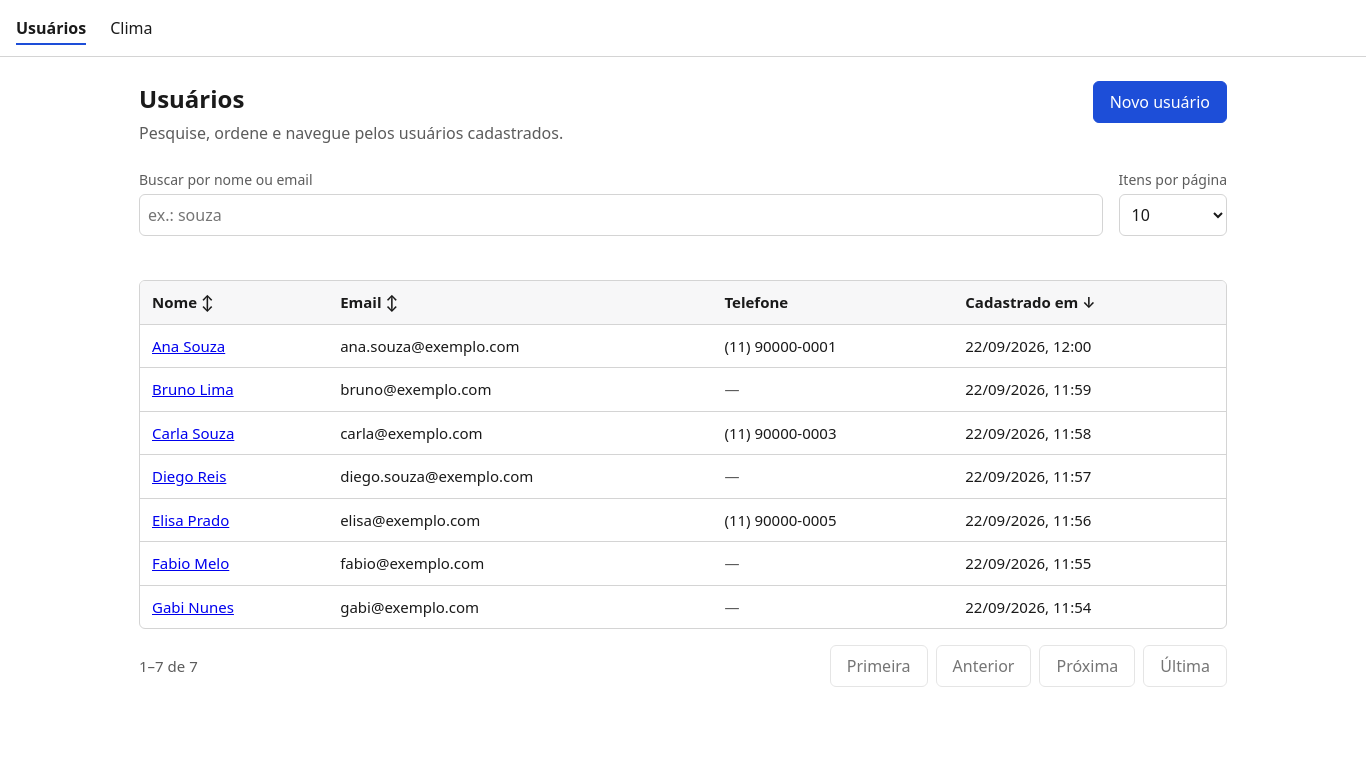
Scenario: percurso: buscar, paginar e abrir um usuário › pagina dentro do resultado filtrado, sem misturar com o restante
The width and height of the screenshot is (1366, 768).
expect the table is shown: met, box [140,281,1226,628]
Type "souza" into the search field labelled "Buscar por nome ou email". click: (621, 215)
box: [139,194,1103,236]
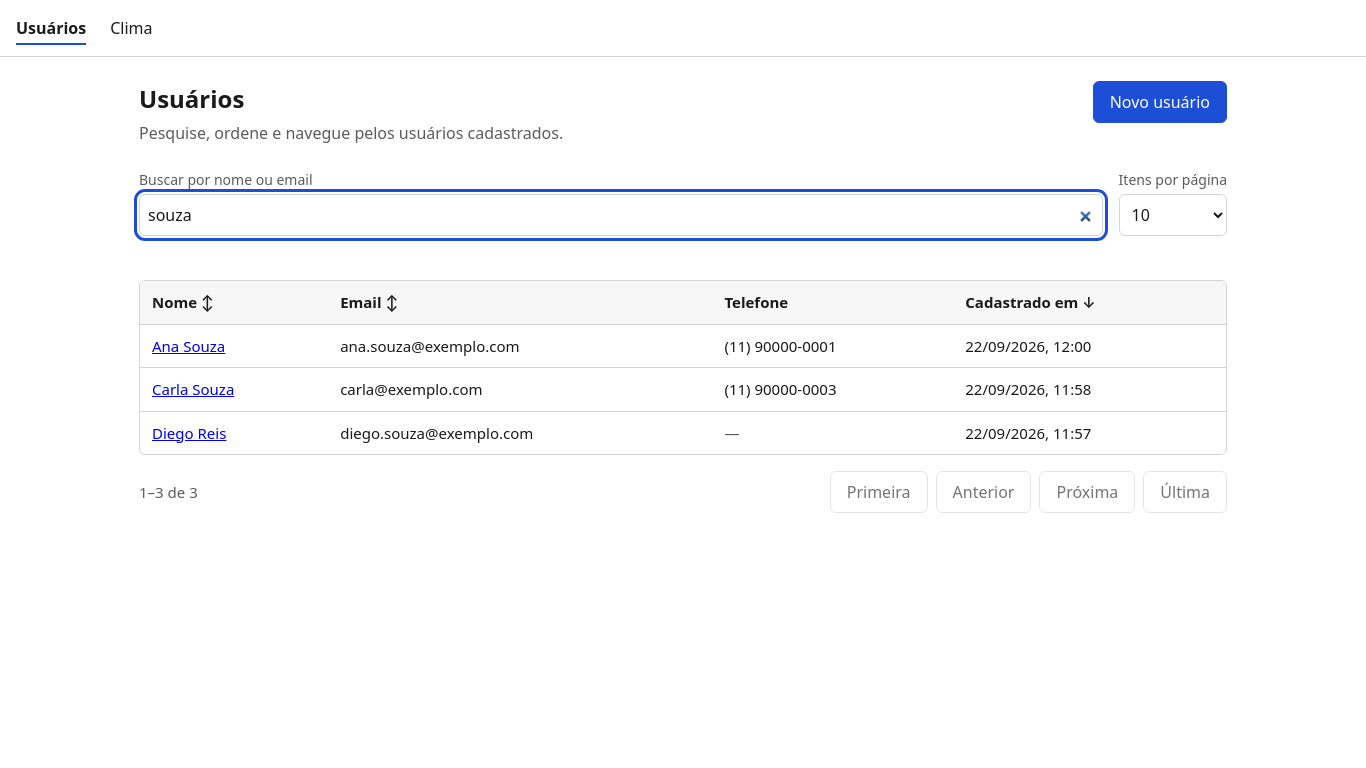
expect the button "Próxima" is disabled: met, box [1040,471,1135,513]
expect the text "1–3 de 3" is shown: met, box [139,481,198,503]
